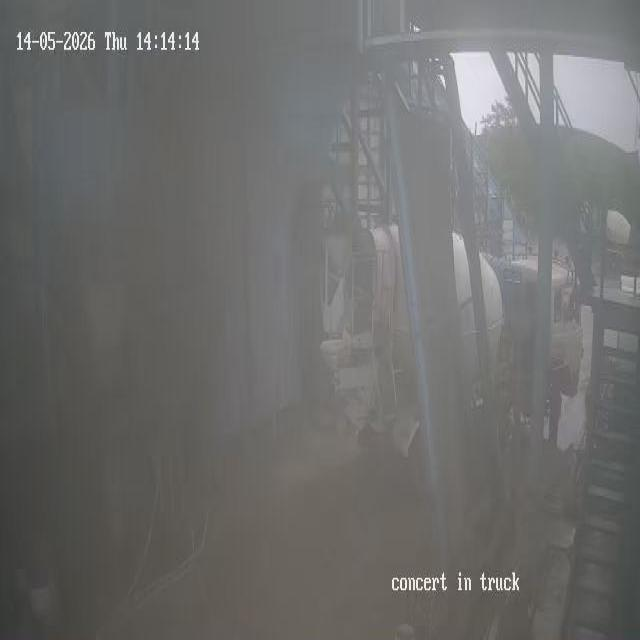cement_mixer_truck: (317, 195, 583, 462)
